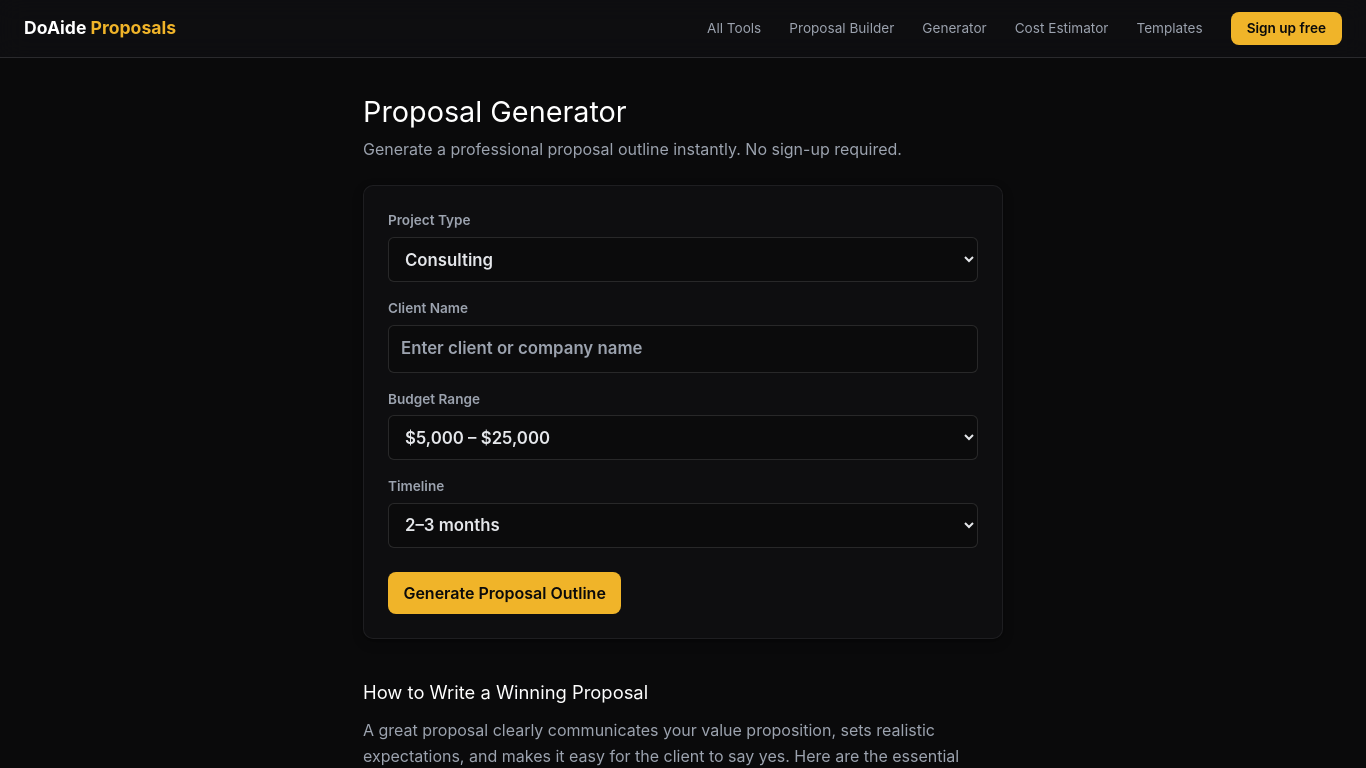
Test: GeneratorPage › shows share buttons after generating
What coordinates should you click on to do the following:
click the button "Generate Proposal Outline"
I would click on:
 (505, 593)
Its box is [388, 572, 621, 614].
(page scrolled)
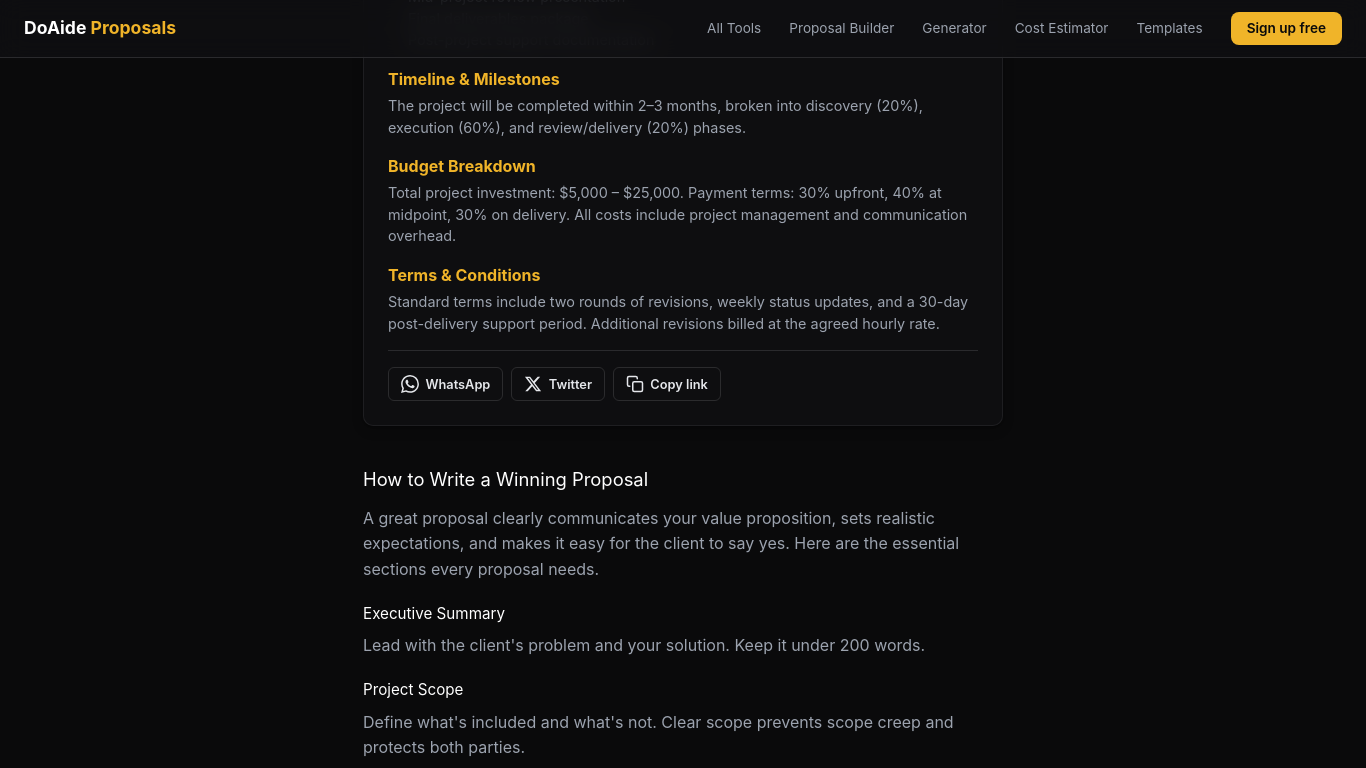
Expected: the link "WhatsApp" is shown, [388, 367, 503, 401]
Expected: the link "Twitter" is shown, [511, 367, 605, 401]
